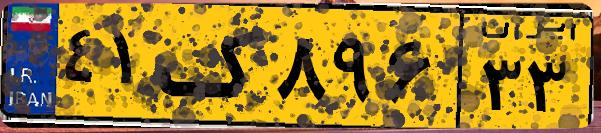1: (110, 28, 158, 98)
3: (475, 38, 525, 113), (525, 38, 570, 115)
4: (57, 26, 110, 100)
6: (385, 28, 445, 110)
8: (270, 28, 330, 110)
9: (330, 28, 385, 110)
ک: (158, 12, 270, 120)
